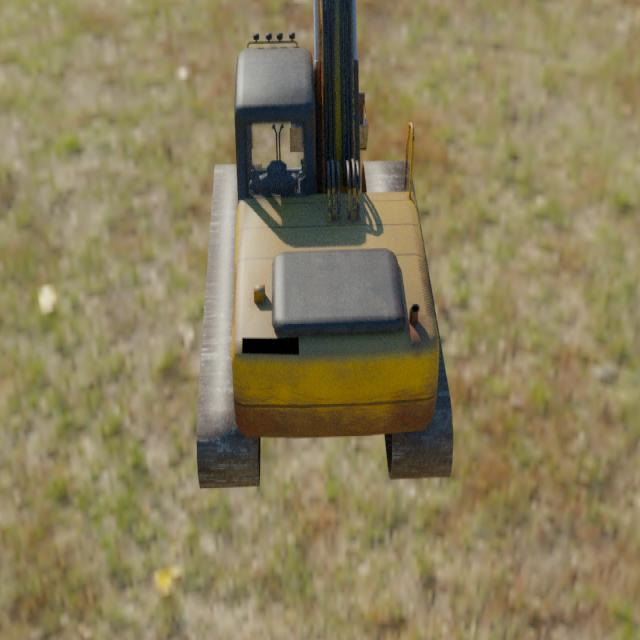excavator: (195, 0, 453, 491)
